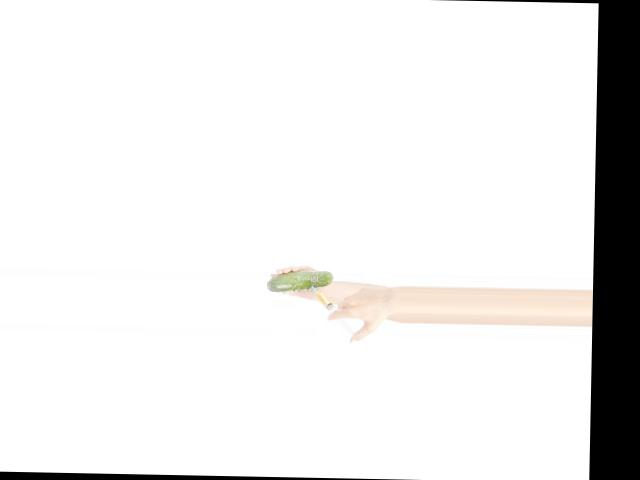cucumber: (265, 270, 332, 292)
